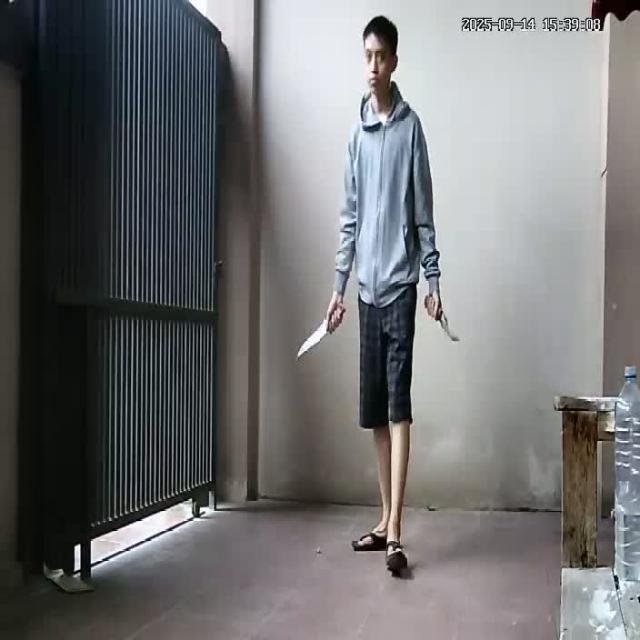senjata_tajam: (294, 314, 328, 364), (439, 311, 461, 345)
